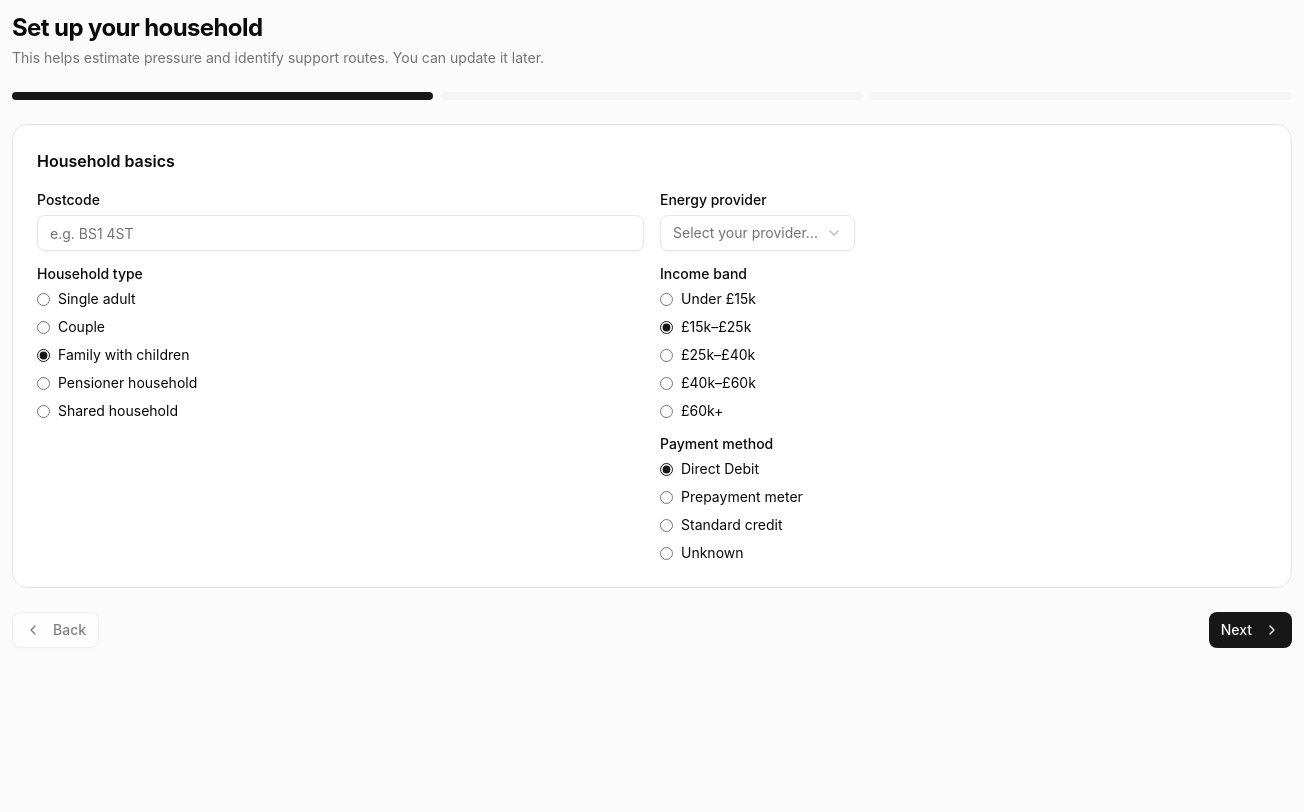
it: OnboardingPage › validates postcode before allowing next from step 1
What coordinates should you click on to do the following:
click the button "Next"
I would click on:
 (1250, 630)
Its box is [1209,612,1292,648].
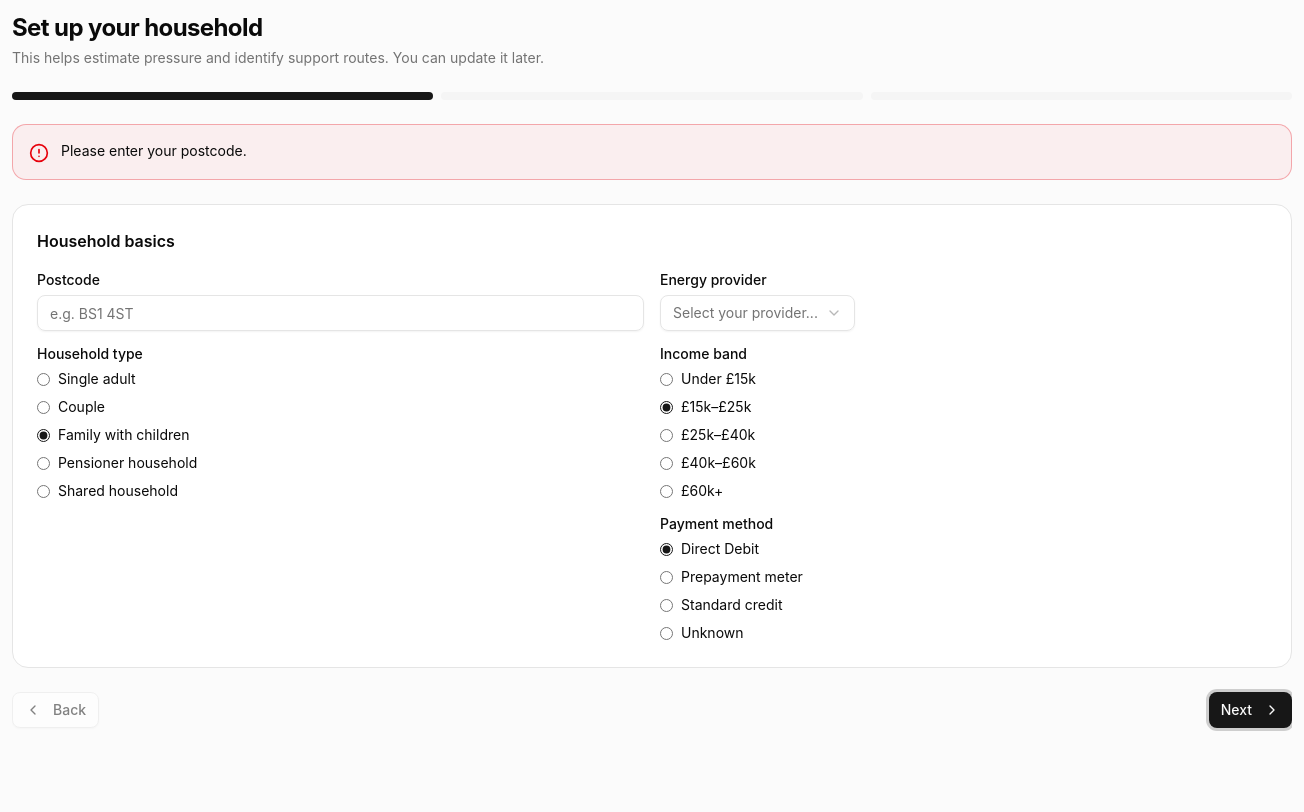
Result: the text "Please enter your postcode." is shown at [61,142,247,159]
